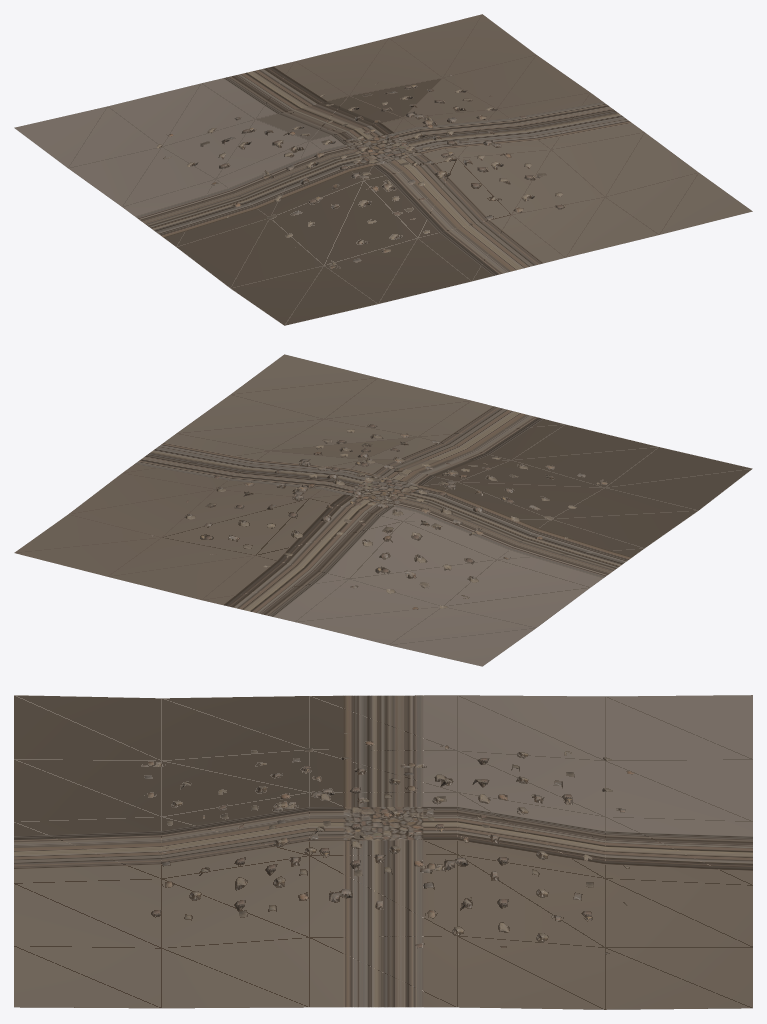
File: RockFloor.fbx
The picture shows the model from 3 angles, top to bottom: view 1: azimuth 30°, elevation 25°; view 2: azimuth 150°, elevation 25°; view 3: azimuth 270°, elevation 25°; orthographic projection. The views are drawn at different scales.
Parts seen in each view (by area): view 1: RockFloor; view 2: RockFloor; view 3: RockFloor.
Boxes of the visible parts, bbox=[...] form: RockFloor: bbox=[14, 14, 752, 325]; RockFloor: bbox=[14, 354, 752, 666]; RockFloor: bbox=[14, 695, 752, 1009].
Bounding box in the file's own units: 877 × 53.6 × 877.
